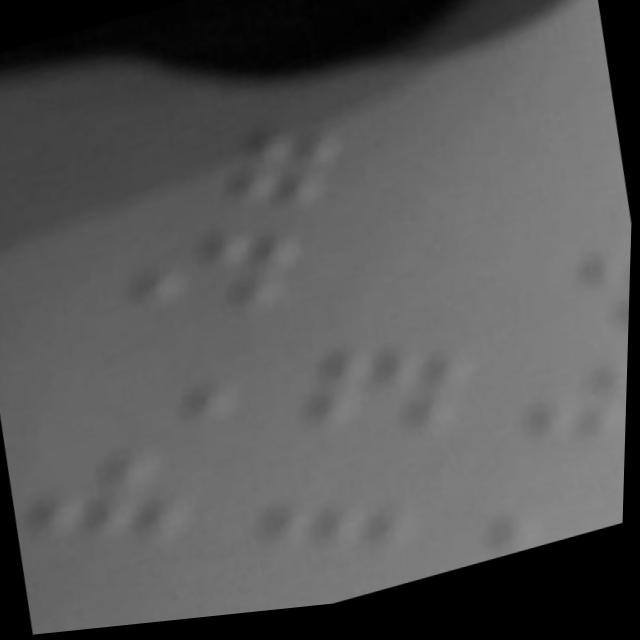braiile: (142, 80, 353, 249), (128, 206, 318, 342), (302, 327, 477, 472), (245, 447, 413, 592), (30, 436, 202, 576)
